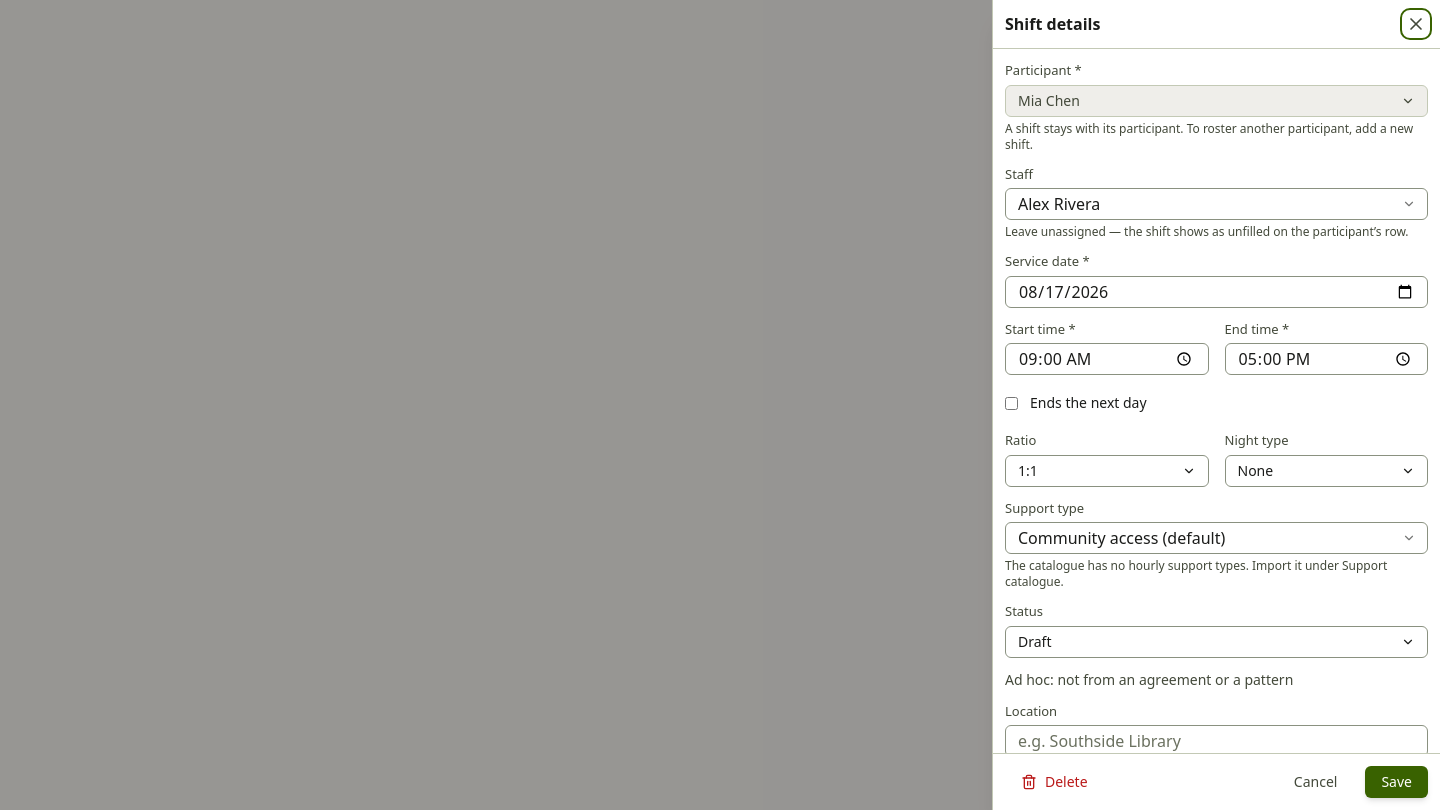
Scenario: ShiftSlideOver status — coordinator-settable statuses only › offers only Draft/Published/Cancelled when the shift is in a coordinator-settable status
This screenshot has width=1440, height=810.
Click the button named "Status" at [1035, 641], box [1005,626,1428,658]
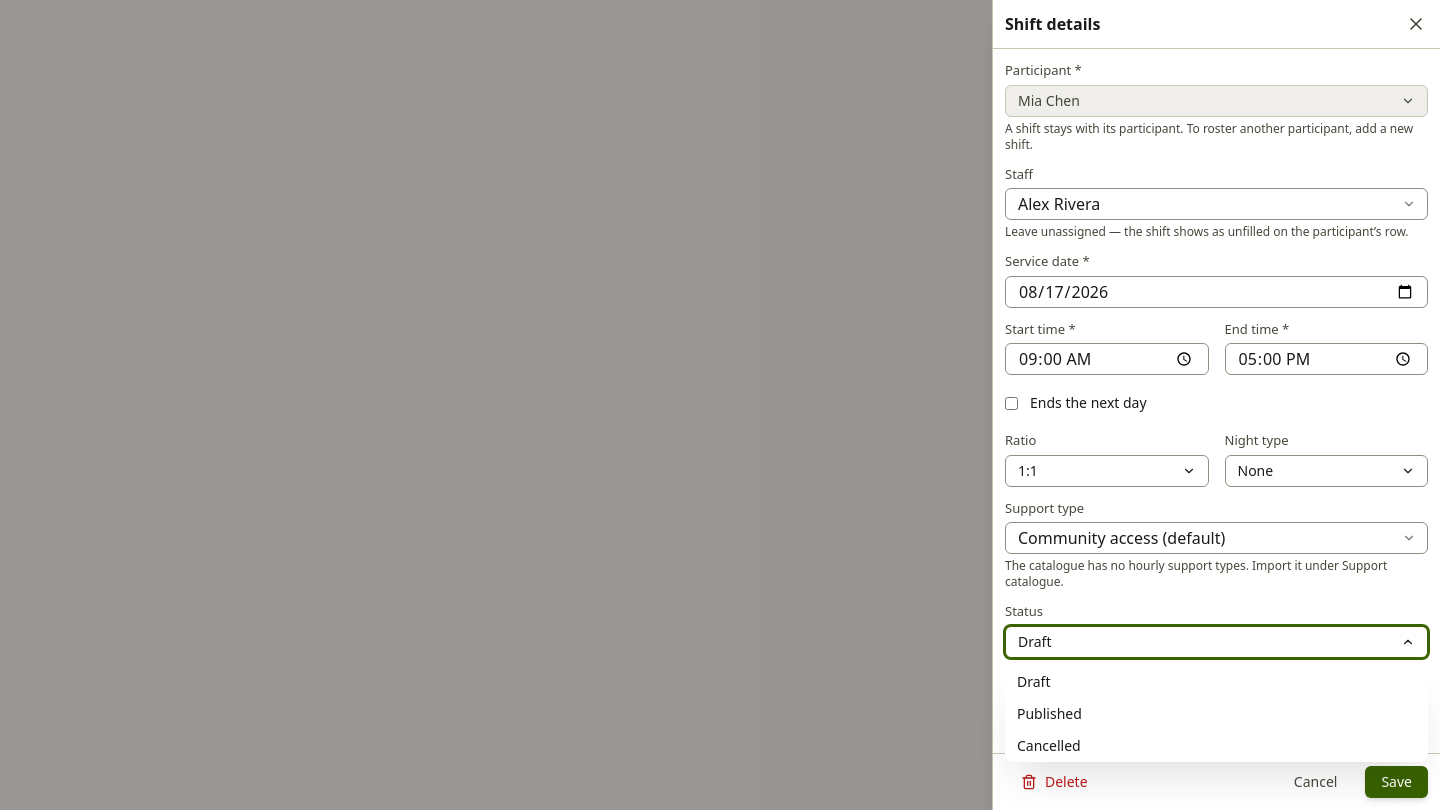
Expected: the option "Draft" is shown, [1017,672,1050,690]
Expected: the option "Published" is shown, [1017,704,1082,722]
Expected: the option "Cancelled" is shown, [1017,736,1081,754]
